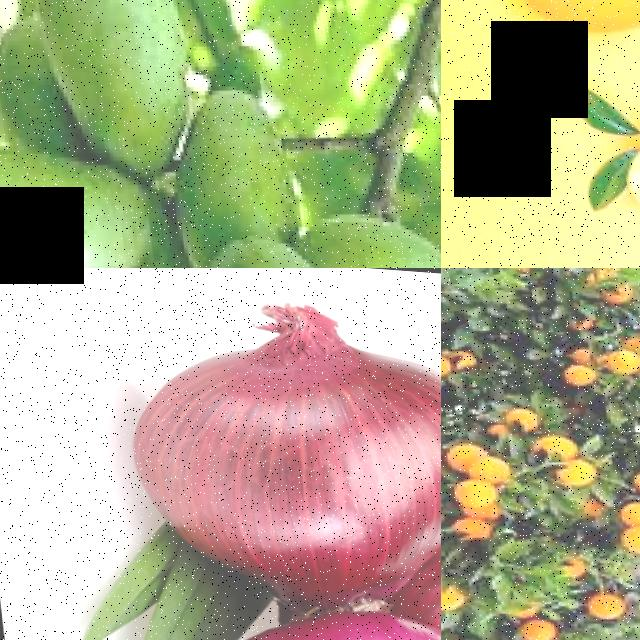mango: (32, 0, 197, 162), (161, 64, 295, 241), (0, 120, 140, 268), (308, 181, 441, 268), (181, 217, 344, 268)
onion: (112, 292, 441, 573)
orange: (508, 0, 640, 43), (577, 580, 627, 617), (449, 472, 496, 507), (554, 451, 599, 482), (512, 609, 558, 639), (530, 426, 578, 452), (441, 435, 483, 464), (602, 339, 640, 368), (558, 356, 592, 384), (617, 516, 640, 546), (441, 346, 450, 378)
